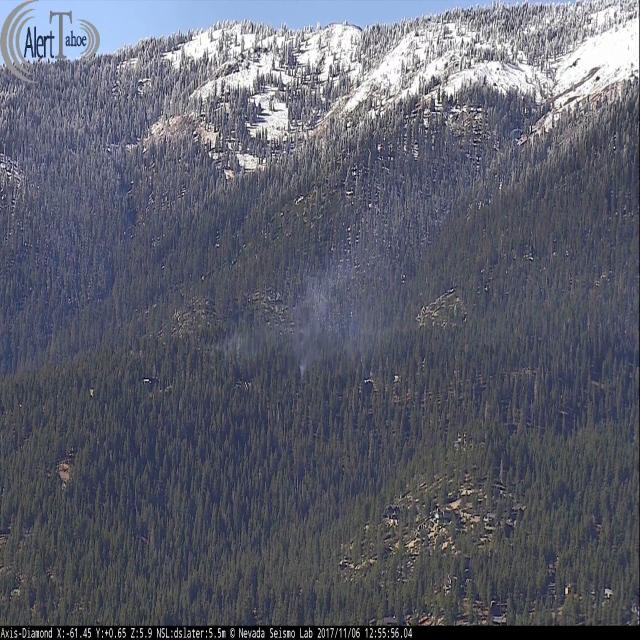smoke: (212, 116, 640, 377)
